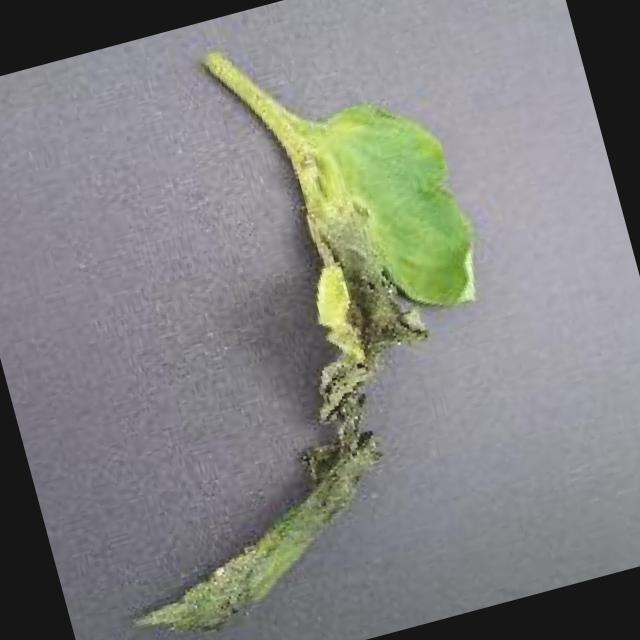leaf blight: (132, 50, 477, 630)
